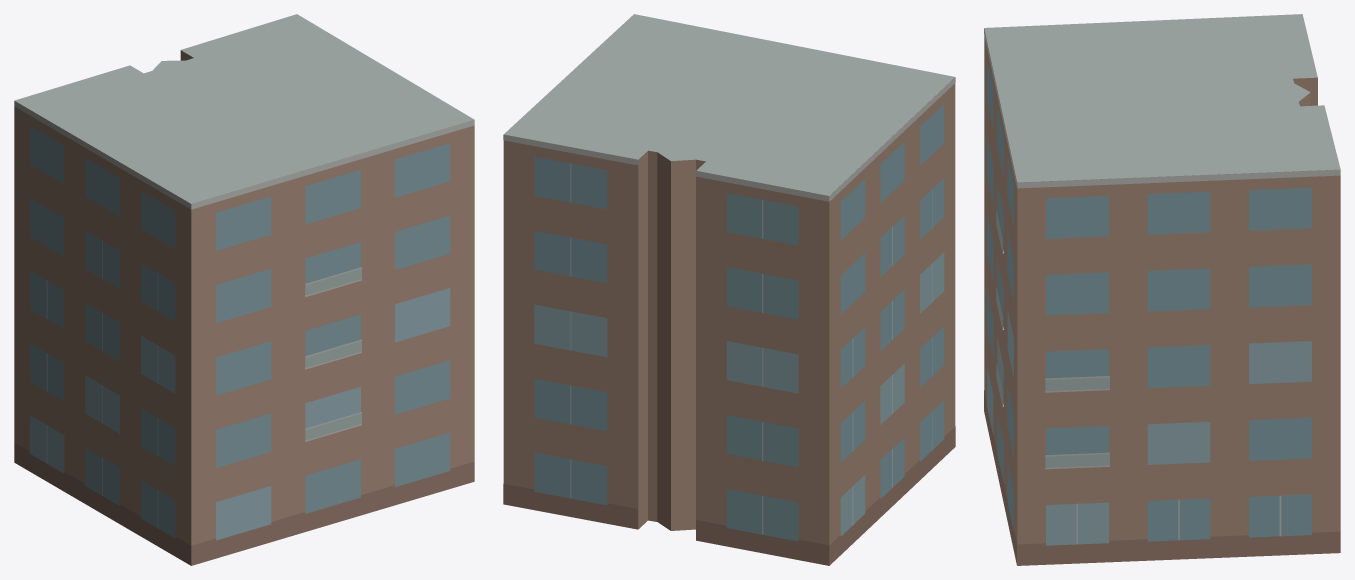
The model's file is survey-upis-32664401.glb.
3 views of the same model, side by side, from view 1: azimuth 30°, elevation 25°; view 2: azimuth 150°, elevation 25°; view 3: azimuth 270°, elevation 25° (orthographic). The views are drawn at different scales.
Visible parts, largest first — view 1: survey-upis-32664401.tmp; view 2: survey-upis-32664401.tmp; view 3: survey-upis-32664401.tmp.
Boxes of the visible parts, bbox=[...] form: survey-upis-32664401.tmp: bbox=[14, 14, 474, 565]; survey-upis-32664401.tmp: bbox=[503, 14, 955, 565]; survey-upis-32664401.tmp: bbox=[984, 14, 1340, 565].
Bounding box in the file's own units: 14.61 × 15.5 × 13.07.
